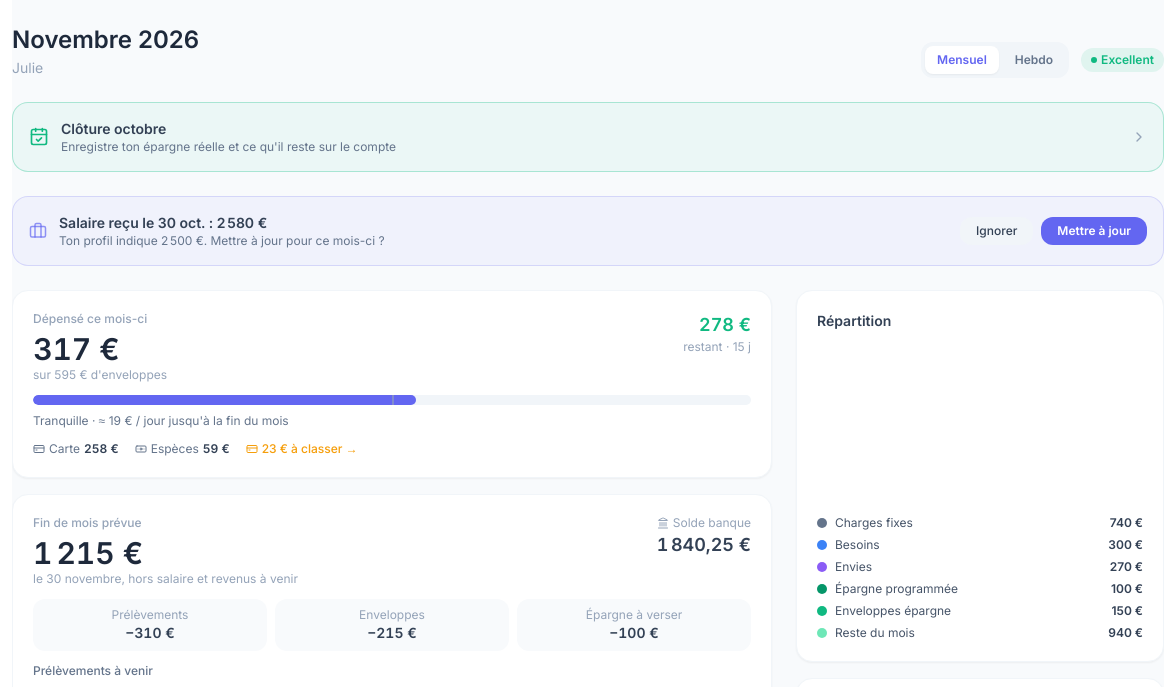
Test: Tableau de bord › dépenses du mois, prévision zen, fin de mois prévue avec prélèvements, tabac, bandeaux
Later steps or results of the test are not shown.
Expected: the text "Dépensé ce mois-ci" is shown, [33,311,167,327]
Expected: the text "Fin de mois prévue" is shown, [33,515,142,530]
# Octobre non clôturé → bandeau de clôture
Click the text "Clôture octobre" at (114, 128), box [61,120,166,137]
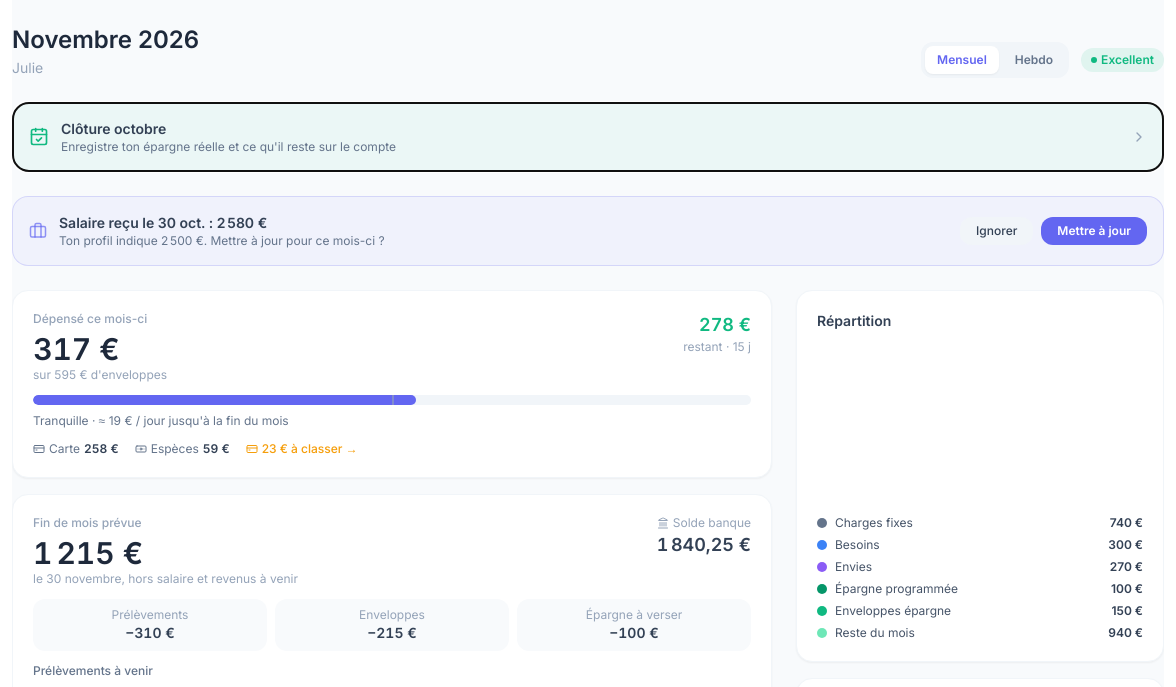
# Paiements carte à classer → lien vers la banque
Click the button "23 € à classer →" at (302, 449), box [246,441,358,457]
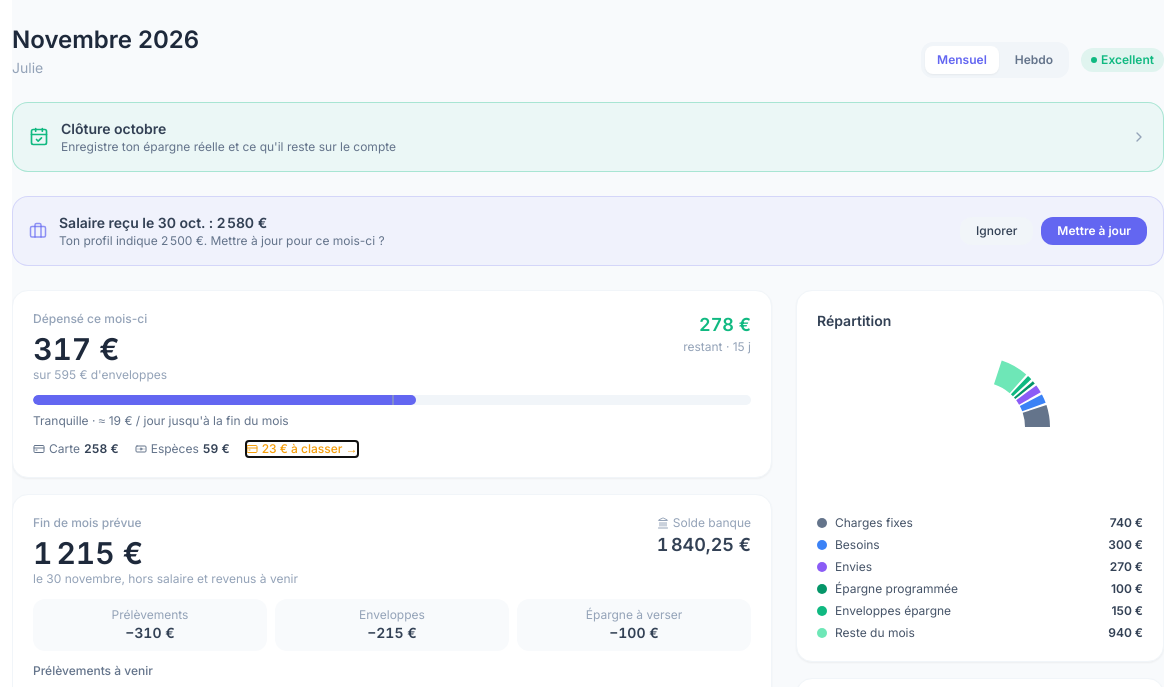
Expected: the text "Salaire reçu le 30 oct. : 2 580 €" is shown, [59,214,267,231]
Click the button "Mettre à jour" at (1094, 231), box [1041,217,1147,245]
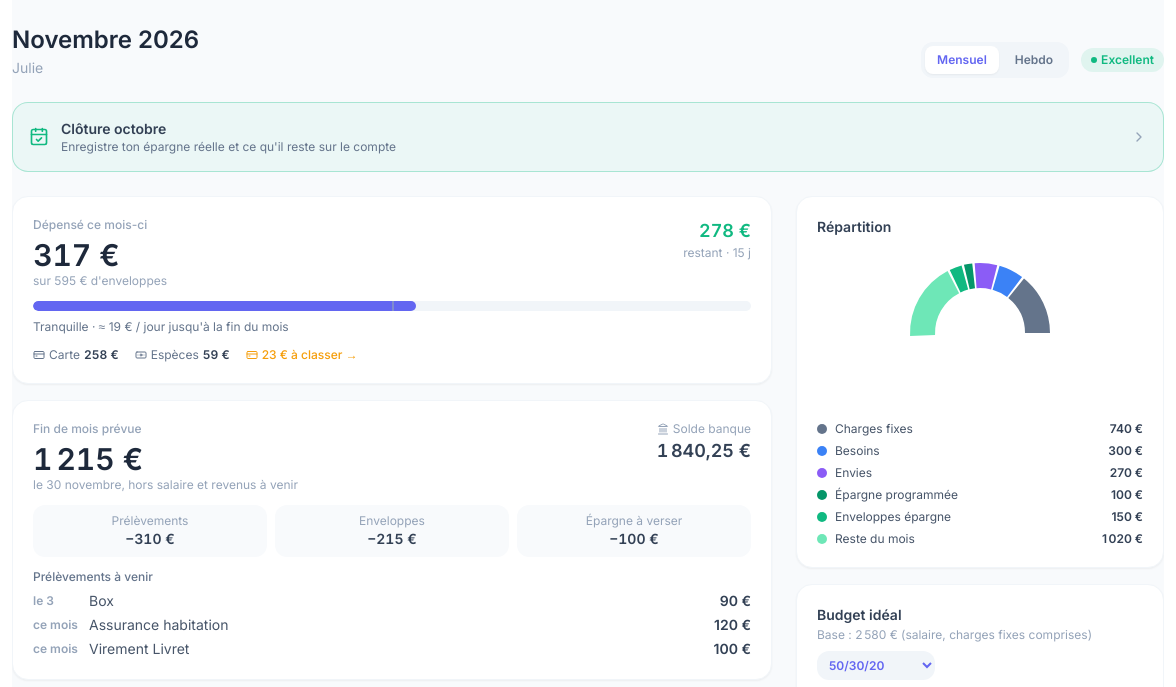
Expected: the text "Salaire reçu" is gone
